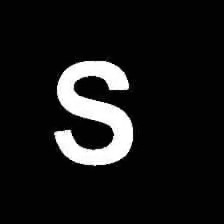LTR_S: (49, 54, 145, 172)
